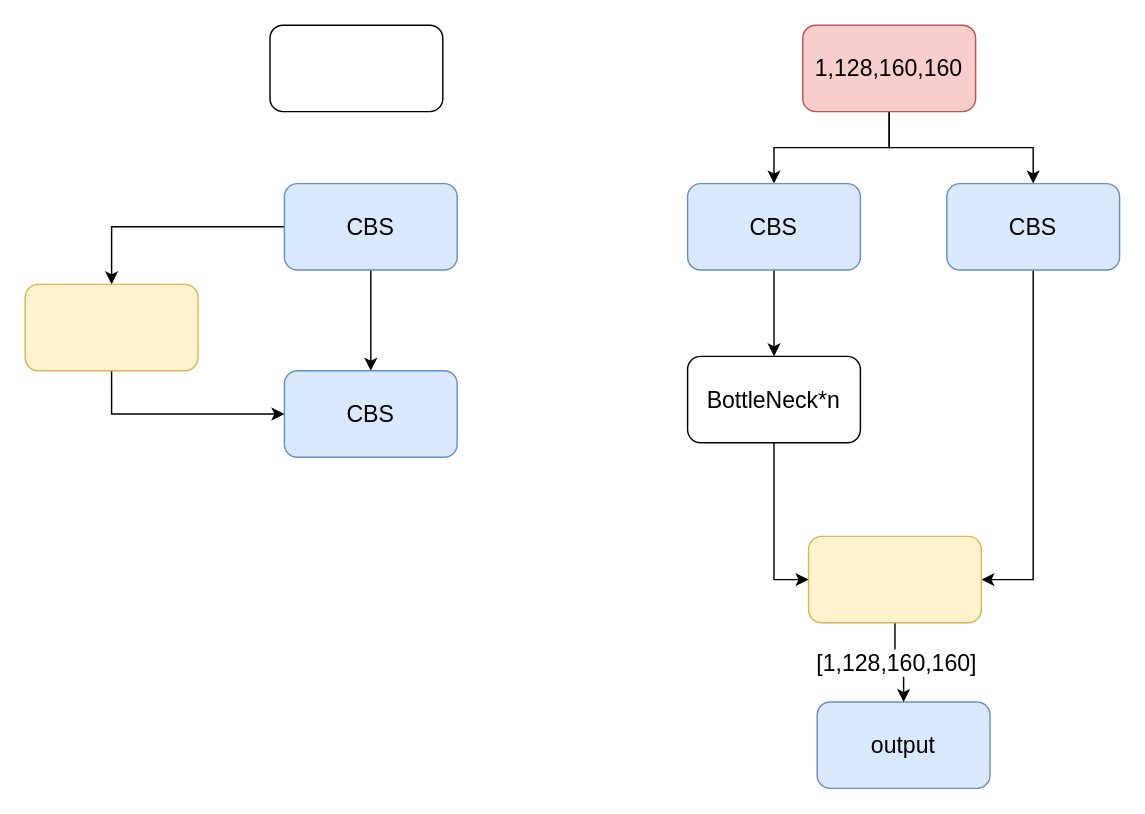
This 1145x814 diagram has some shape labels left out. The centre of each missing label's shape, as x and y in pixels:
"add" goes at [111,327].
"BottleNeck" goes at [356,68].
"cat" goes at [894,579].
